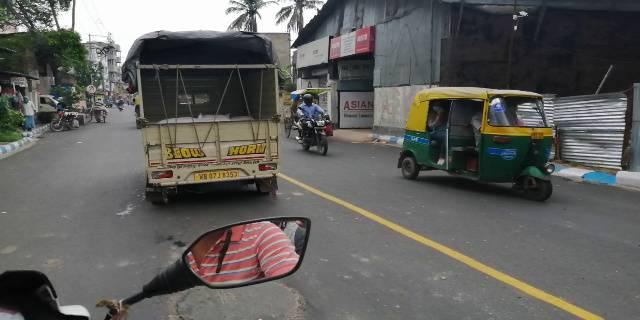Autorickshaw: (399, 83, 560, 202)
Minitruck: (129, 34, 280, 206)
Motorbike: (292, 88, 338, 157)
